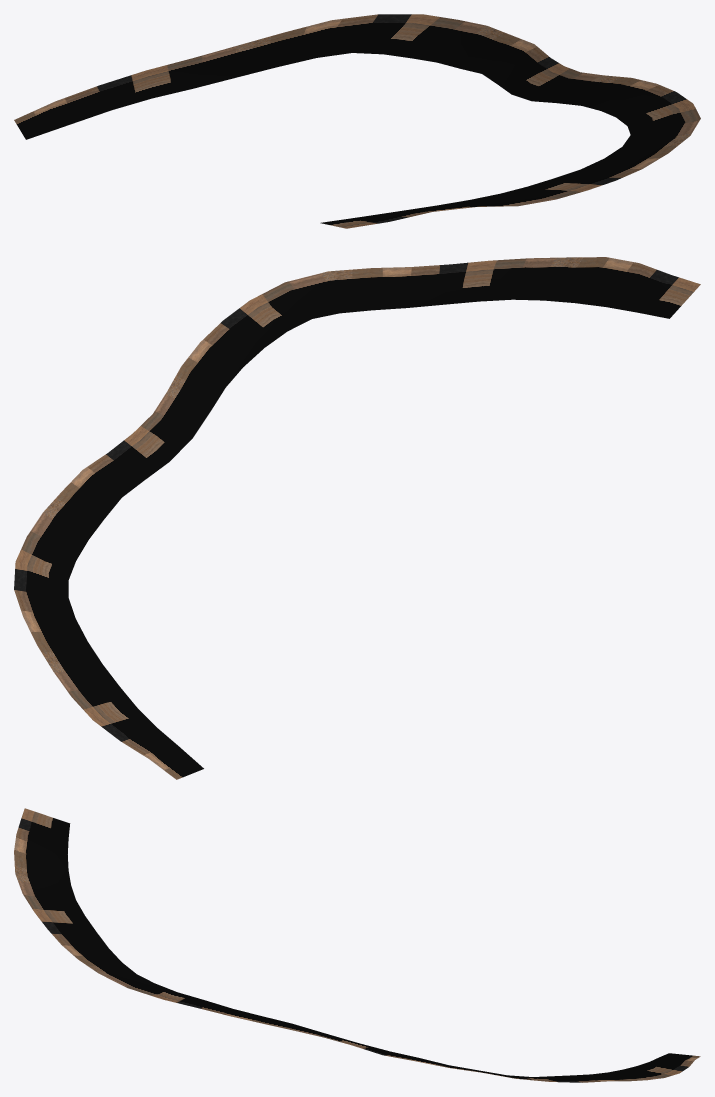
Rendered from Tide_GenerateSurfaceDecal_AC5FFAAF_0_FlowDecal_SmallMesh_Mesh_x9_y6_150_0_ATLAS.fbx.
3 views of the same model, one above another, from view 1: azimuth 30°, elevation 25°; view 2: azimuth 150°, elevation 25°; view 3: azimuth 270°, elevation 25° (orthographic). The views are drawn at different scales.
Parts seen in each view (by area): view 1: Tide_GenerateSurfaceDecal_AC5FFAAF_0_FlowDecal_SmallMesh_Mes; view 2: Tide_GenerateSurfaceDecal_AC5FFAAF_0_FlowDecal_SmallMesh_Mes; view 3: Tide_GenerateSurfaceDecal_AC5FFAAF_0_FlowDecal_SmallMesh_Mes.
Boxes of the visible parts, x1,y1,x2,y2 form: Tide_GenerateSurfaceDecal_AC5FFAAF_0_FlowDecal_SmallMesh_Mes: (14,14,700,228); Tide_GenerateSurfaceDecal_AC5FFAAF_0_FlowDecal_SmallMesh_Mes: (14,257,700,779); Tide_GenerateSurfaceDecal_AC5FFAAF_0_FlowDecal_SmallMesh_Mes: (14,808,700,1082).
Size of the model in its own units: 1148 by 2082 by 664.
